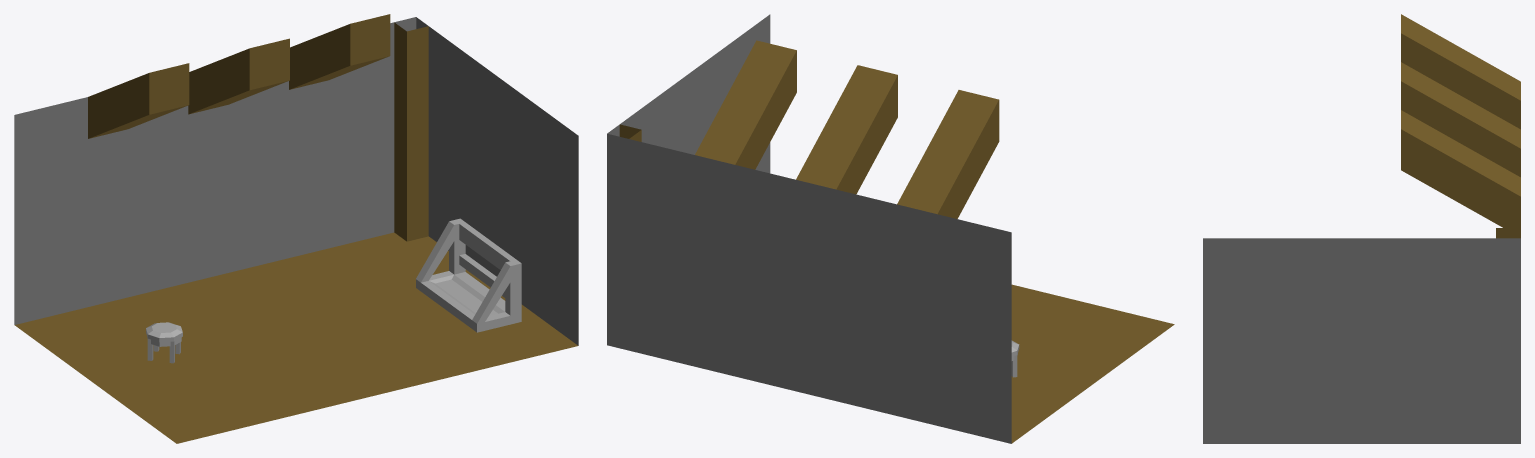
Rendered from ArmoryInterior.fbx.
3 renders of one model, left to right at view 1: azimuth 30°, elevation 25°; view 2: azimuth 150°, elevation 25°; view 3: azimuth 270°, elevation 25°, orthographic. The views are drawn at different scales.
Parts seen in each view (by area): view 1: Sala2; view 2: Sala2; view 3: Sala2.
Boxes of the visible parts, box(x1,y1,x2,y2) form: Sala2: box(14, 14, 578, 443); Sala2: box(607, 14, 1174, 443); Sala2: box(1203, 14, 1520, 443).
Bounding box in the file's own units: 10 × 6.64 × 7.
